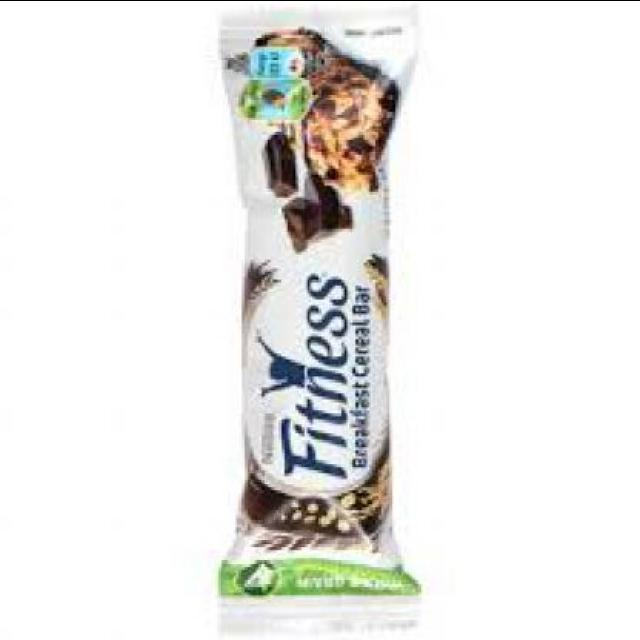Cereal bar: (208, 2, 460, 632)
